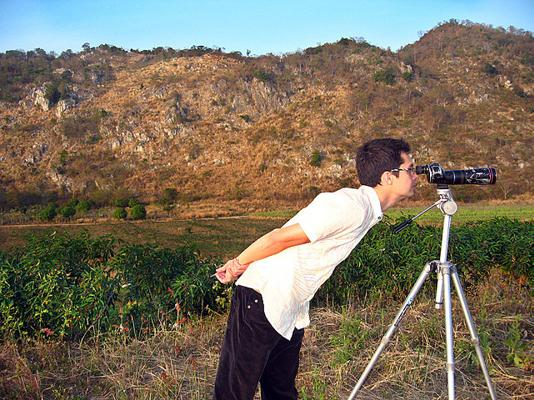person: (210, 138, 424, 398)
